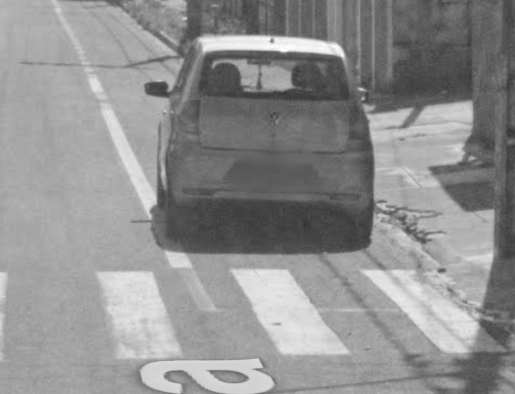car: (142, 31, 385, 240)
